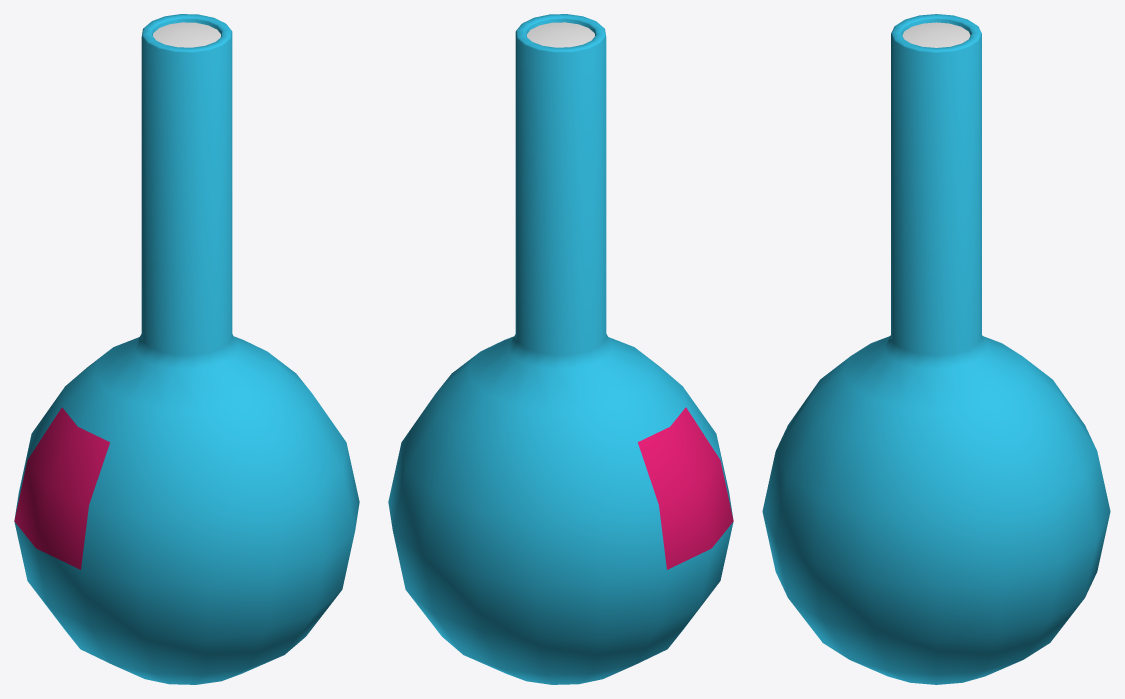
Rendered from RoundFlask_labeled.fbx.
The picture shows the model from 3 angles, left to right: view 1: azimuth 30°, elevation 25°; view 2: azimuth 150°, elevation 25°; view 3: azimuth 270°, elevation 25°; orthographic projection.
Parts seen in each view (by area): view 1: Flask-glass, Flask-liquid; view 2: Flask-glass, Flask-liquid; view 3: Flask-glass, Flask-liquid.
Boxes of the visible parts, x1,y1,x2,y2 form: Flask-glass: (14,14,359,684); Flask-liquid: (153,22,220,47); Flask-glass: (388,14,733,684); Flask-liquid: (527,22,594,47); Flask-glass: (762,14,1110,684); Flask-liquid: (902,22,970,47).
Size of the model in its own units: 12.21 by 24.18 by 12.21.
